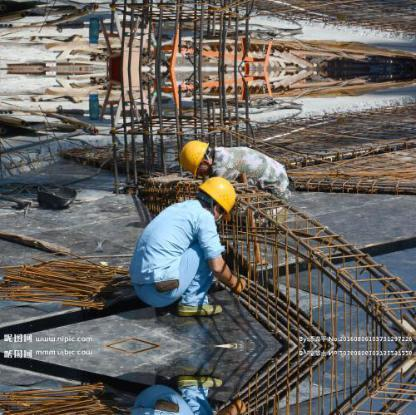helmet: (197, 172, 238, 222), (177, 132, 216, 183)
